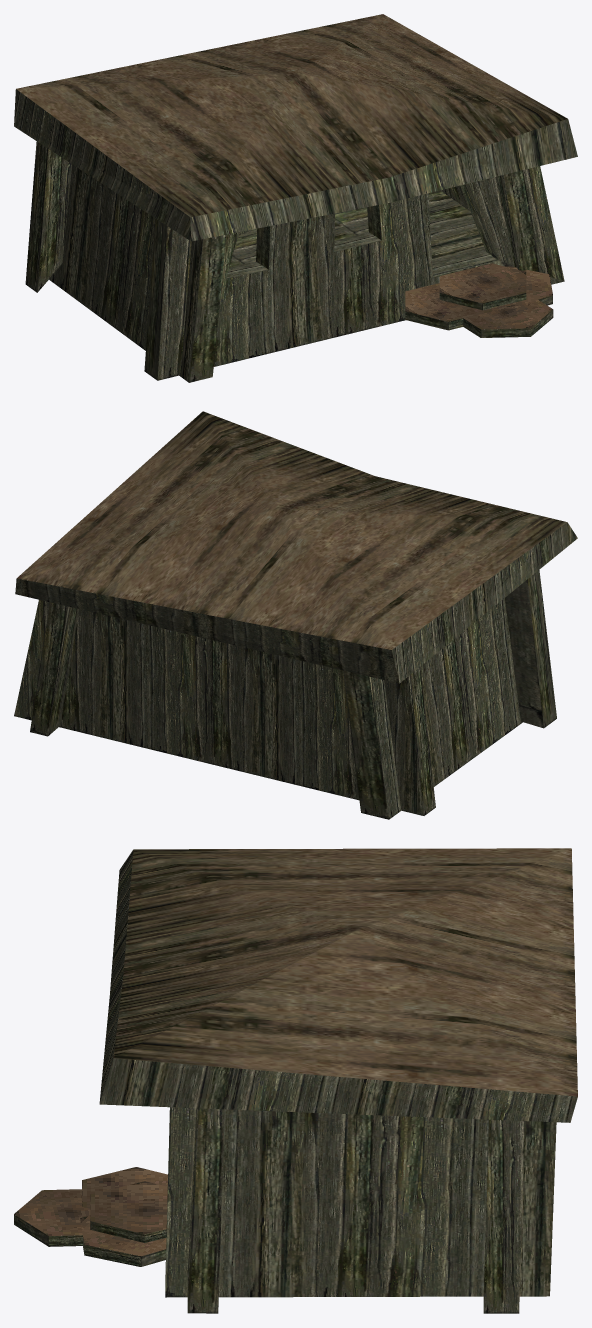
Rendered from dom3.glb.
The picture shows the model from 3 angles, top to bottom: view 1: azimuth 30°, elevation 25°; view 2: azimuth 150°, elevation 25°; view 3: azimuth 270°, elevation 25°; orthographic projection. The views are drawn at different scales.
Parts seen in each view (by area): view 1: zengin; view 2: zengin; view 3: zengin.
Part boxes in pixels (<box>): zengin: <box>14,14,577,382</box>; zengin: <box>14,411,577,819</box>; zengin: <box>14,848,577,1313</box>.
Size of the model in its own units: 9.02 by 4.41 by 8.62.
3 materials, 3 textured.
